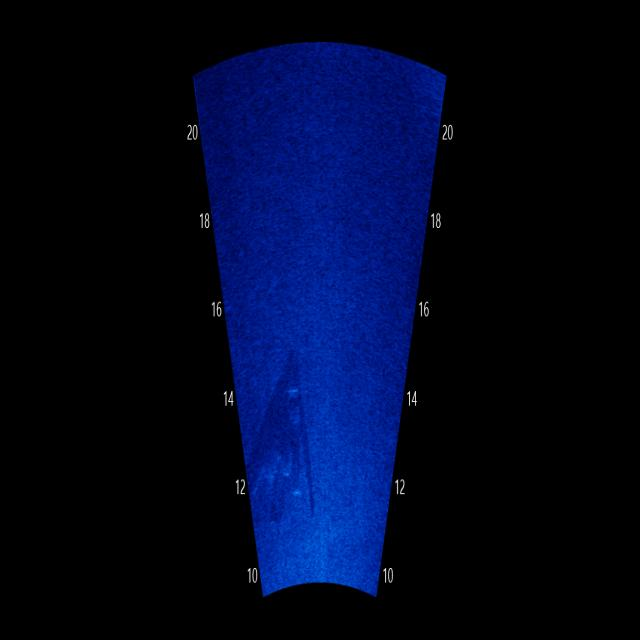square: (244, 347, 316, 537)
